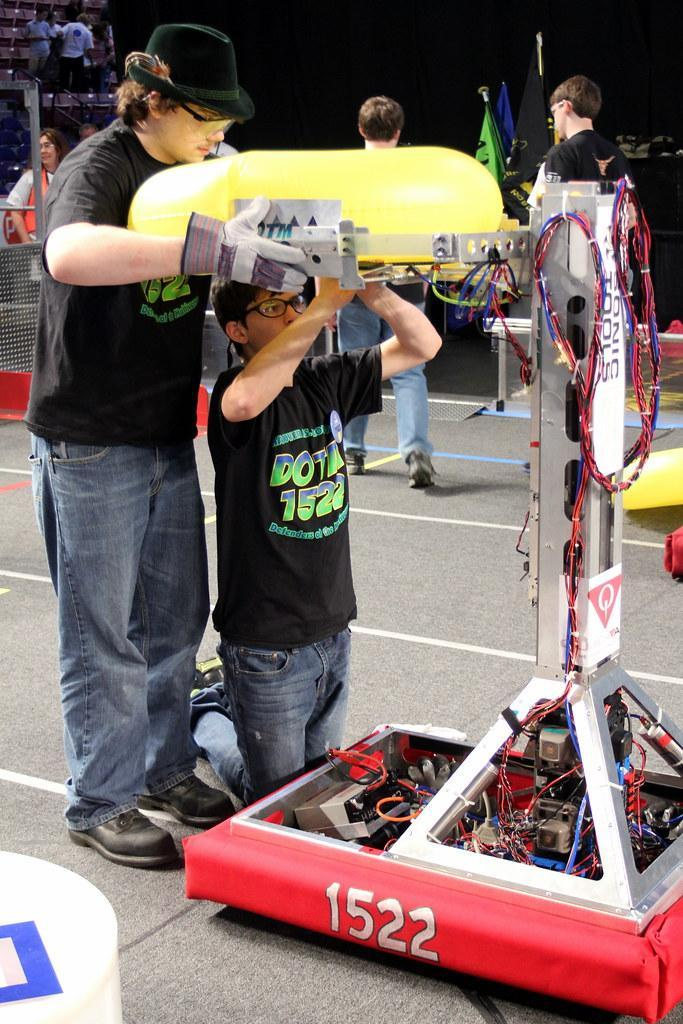robot: (190, 168, 683, 1020), (178, 1020, 192, 1024)
